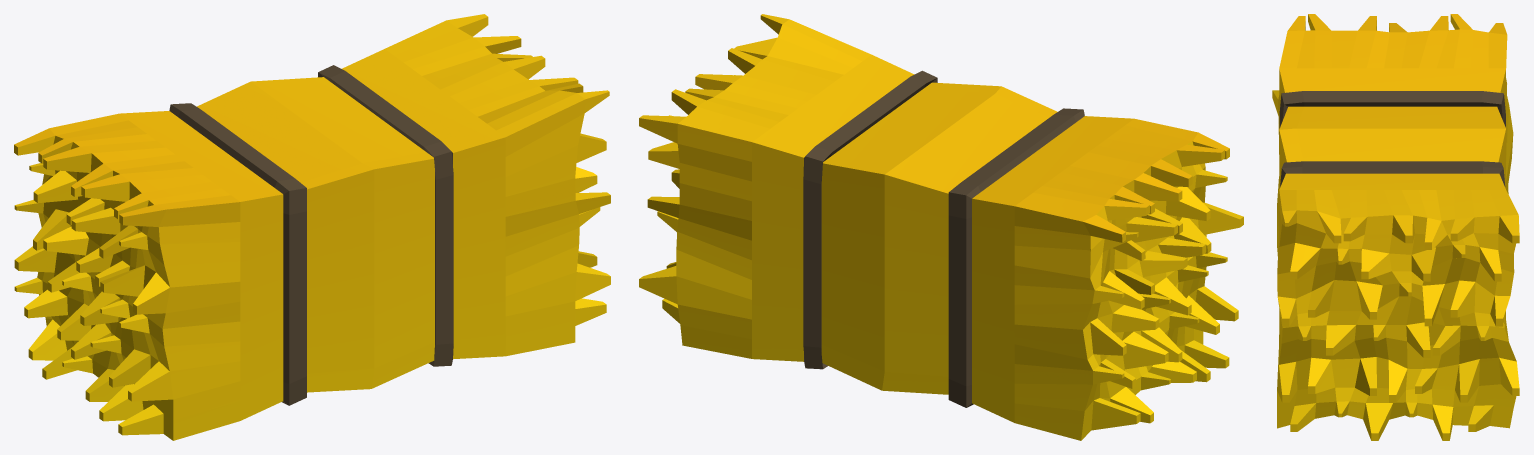
Rendered from HayBale.fbx.
3 renders of one model, left to right at view 1: azimuth 30°, elevation 25°; view 2: azimuth 150°, elevation 25°; view 3: azimuth 270°, elevation 25°, orthographic. The views are drawn at different scales.
Visible parts, largest first — view 1: Cube.002; view 2: Cube.002; view 3: Cube.002.
Part boxes in pixels (x1,y1,x2,y2): Cube.002: [14, 14, 610, 440]; Cube.002: [639, 14, 1243, 440]; Cube.002: [1272, 14, 1519, 440].
Bounding box in the file's own units: 208 × 99.3 × 99.16.
